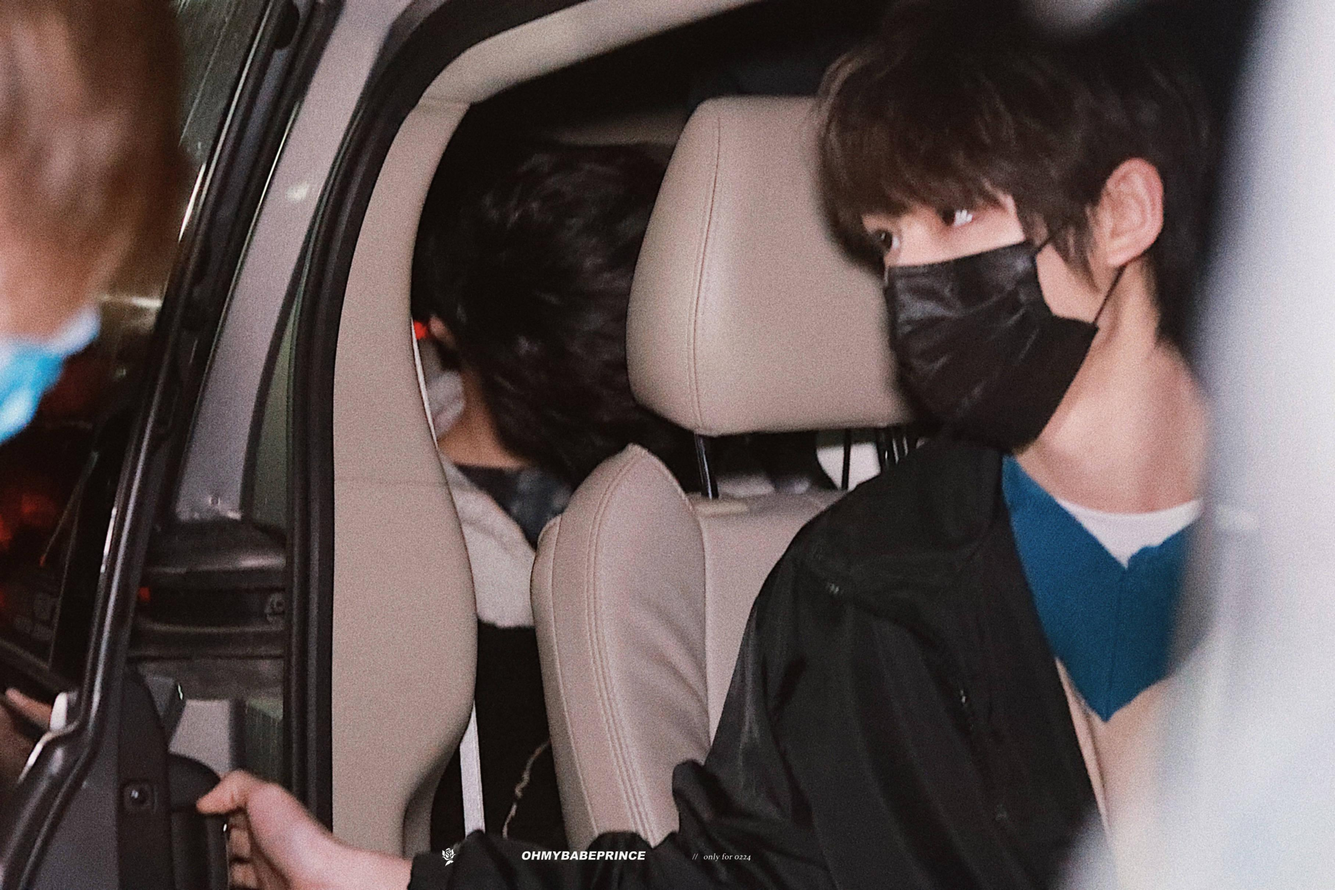OK: (862, 160, 1078, 455)
